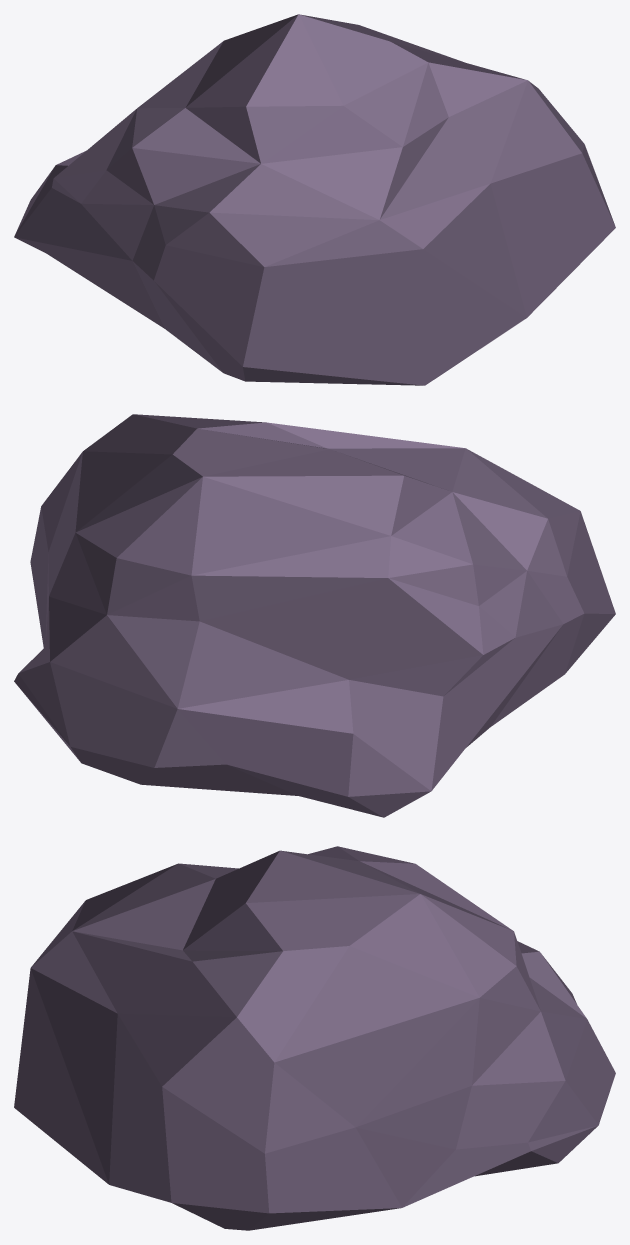
The model's file is Rock1.fbx.
3 views of the same model, one above another, from view 1: azimuth 30°, elevation 25°; view 2: azimuth 150°, elevation 25°; view 3: azimuth 270°, elevation 25° (orthographic). The views are drawn at different scales.
Visible parts, largest first — view 1: Rock1; view 2: Rock1; view 3: Rock1.
Part boxes in pixels (x1=…): Rock1: x1=14, y1=14, x2=615, y2=385; Rock1: x1=14, y1=414, x2=615, y2=817; Rock1: x1=14, y1=846, x2=615, y2=1230.
Bounding box in the file's own units: 1.17 × 0.534 × 1.17.
